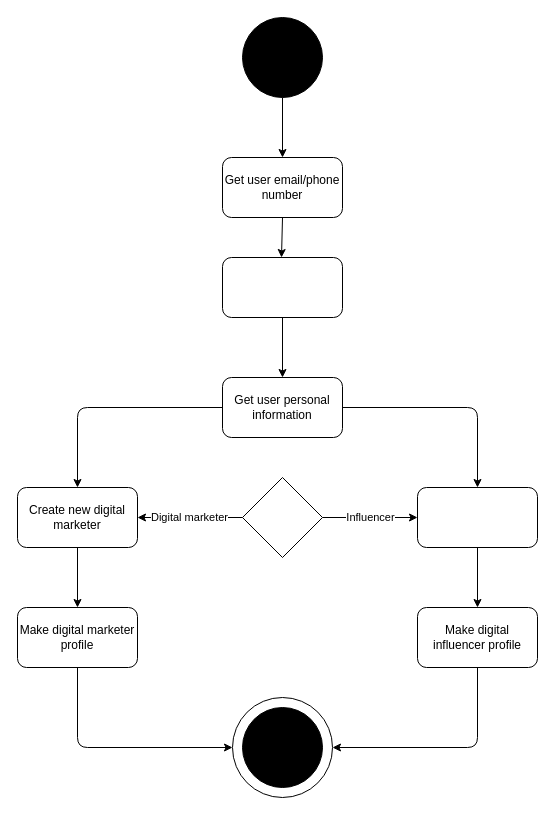
Image size: 555x815. Some labels were removed from this diagram. The shapes that lost their labels are listed below. From the top down, each one's box as (x1, y1, x2, y2) in pixels, then its label:
(222, 256, 342, 318): Get user password
(416, 486, 538, 548): Create new digital influencer
